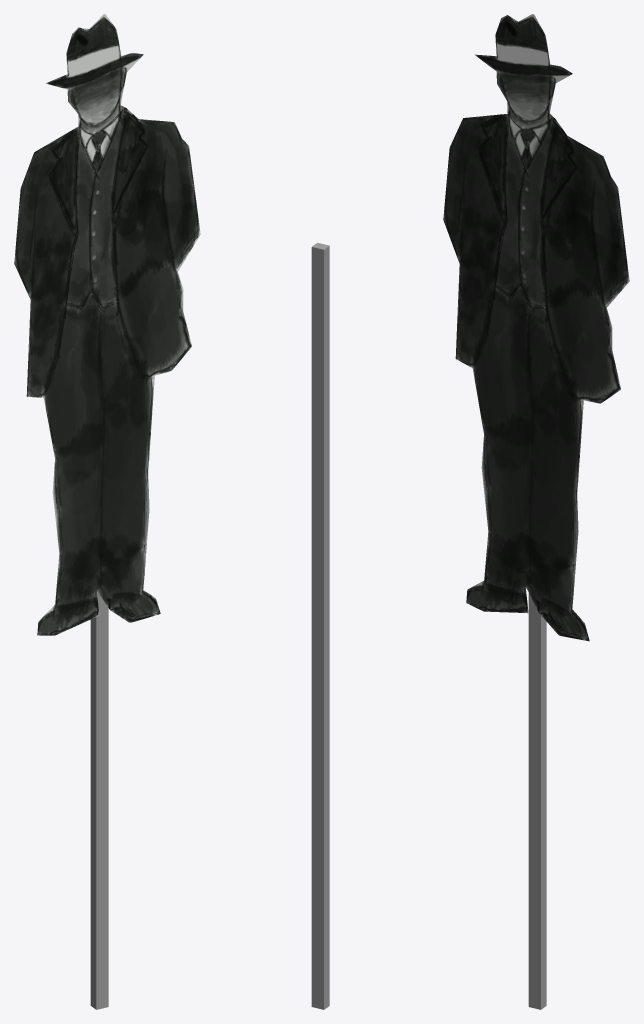
The model's file is Depression_Man2.fbx.
The picture shows the model from 3 angles, left to right: view 1: azimuth 30°, elevation 25°; view 2: azimuth 150°, elevation 25°; view 3: azimuth 330°, elevation 25°; orthographic projection.
Visible parts, largest first — view 1: pCube3; view 2: pCube3; view 3: pCube3.
Boxes of the visible parts, x1,y1,x2,y2 form: pCube3: [14, 14, 200, 1009]; pCube3: [311, 242, 329, 1009]; pCube3: [443, 14, 629, 1009].
Size of the model in its own units: 0.014 by 0.0714 by 0.000955.
2 materials, 1 textured.
